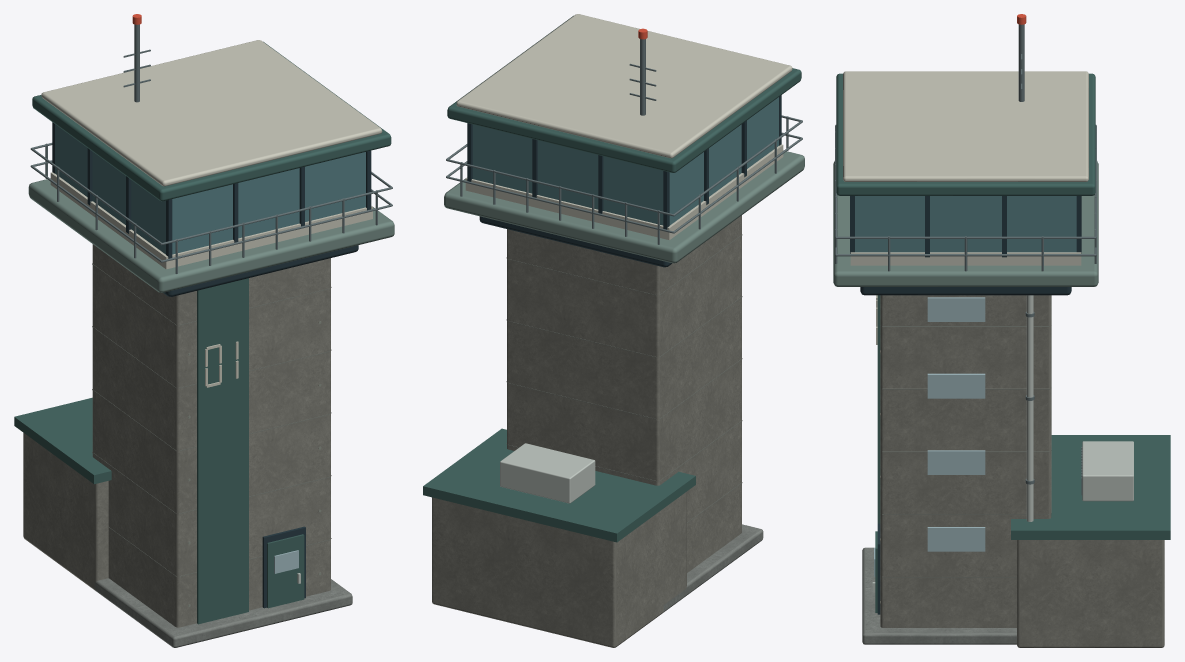
File: airport-control-tower.glb
3 views of the same model, side by side, from view 1: azimuth 30°, elevation 25°; view 2: azimuth 150°, elevation 25°; view 3: azimuth 270°, elevation 25° (orthographic).
Parts seen in each view (by area): view 1: Stair tower, Roof cap, Vertical enamel panel, Cab glass, Observation deck, Operations room, Roof fascia, Concrete plinth, Operations roof, Window sill, Catwalk rail, Cab mullion (+5 smaller); view 2: Stair tower, Operations room, Roof cap, Cab glass, Operations roof, Observation deck, Roof fascia, Air handler, Window sill, Catwalk rail, Cab mullion, Concrete plinth (+3 smaller); view 3: Stair tower, Roof cap, Operations room, Cab glass, Operations roof, Observation deck, Landing window, Roof fascia, Concrete plinth, Air handler, Window sill, Catwalk rail (+7 smaller).
Boxes of the visible parts, x1,y1,x2,y2 form: Stair tower: (92,244,330,627); Roof cap: (41,40,382,186); Vertical enamel panel: (197,278,248,624); Cab glass: (55,124,365,254); Observation deck: (28,179,394,292); Operations room: (23,433,108,590); Roof fascia: (32,41,391,201); Concrete plinth: (71,566,352,647); Operations roof: (14,397,111,484); Window sill: (50,172,372,269); Catwalk rail: (30,143,392,262); Cab mullion: (52,122,371,258); Stair tower: (507,215,741,572); Operations room: (432,491,686,647); Roof cap: (456,14,792,158); Cab glass: (472,97,778,225); Operations roof: (423,428,695,542); Observation deck: (444,151,804,263); Roof fascia: (447,15,801,172); Air handler: (500,443,595,503); Window sill: (465,144,783,240); Catwalk rail: (446,115,802,233); Cab mullion: (467,95,781,229); Concrete plinth: (663,524,763,612); Stair tower: (880,295,1051,627); Roof cap: (843,71,1088,181); Operations room: (1017,540,1164,647); Cab glass: (855,196,1076,252); Operations roof: (1011,435,1170,539); Observation deck: (833,161,1098,286); Landing window: (927,297,985,551); Roof fascia: (836,73,1095,195); Concrete plinth: (862,547,1016,644); Air handler: (1082,441,1133,501); Window sill: (850,252,1081,265); Catwalk rail: (835,125,1096,256).
Bounding box in the file's own units: 7.1 × 16.18 × 8.77.
14 materials, 2 textured.
